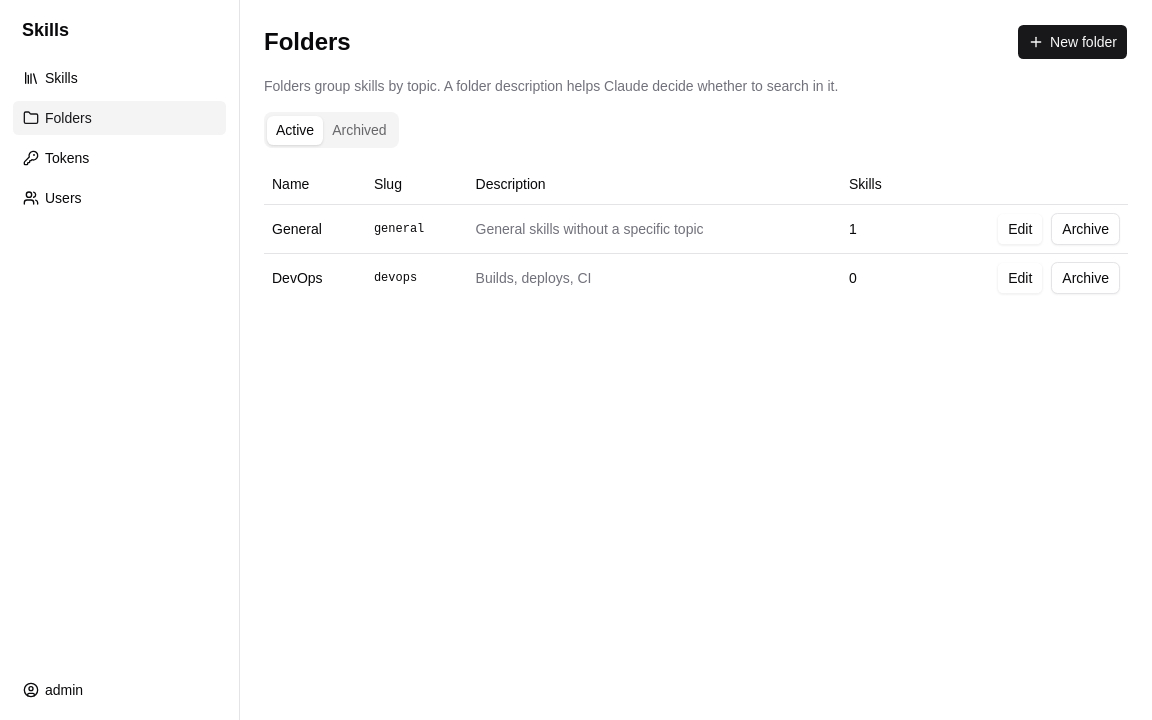
FoldersPage › archives a folder after confirmation and shows a toast
Click the button "Archive" in the row of "General skills without a specific topic" at (1086, 228), box [1051, 212, 1120, 244]
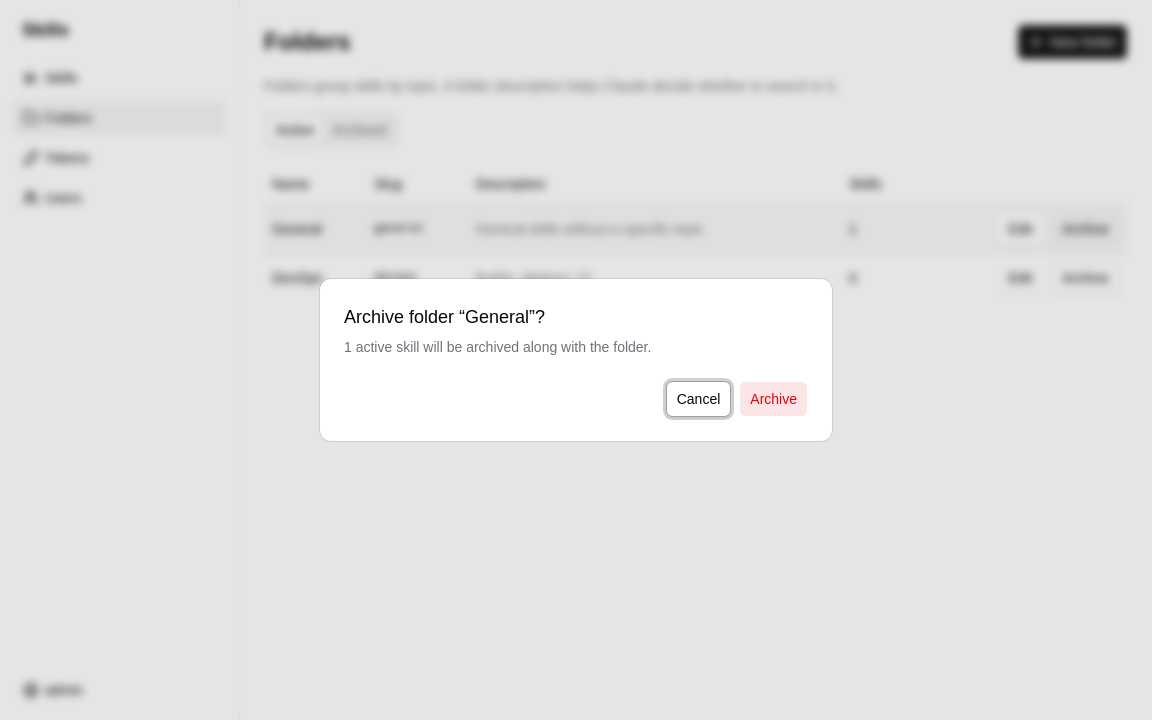
Check: the heading "Archive folder “General”?" is shown, box [344, 303, 545, 331]
Check: the dialog shows "1 active skill will be archived", box [344, 339, 651, 355]
Click the button "Archive" at (774, 399), box [739, 381, 808, 417]
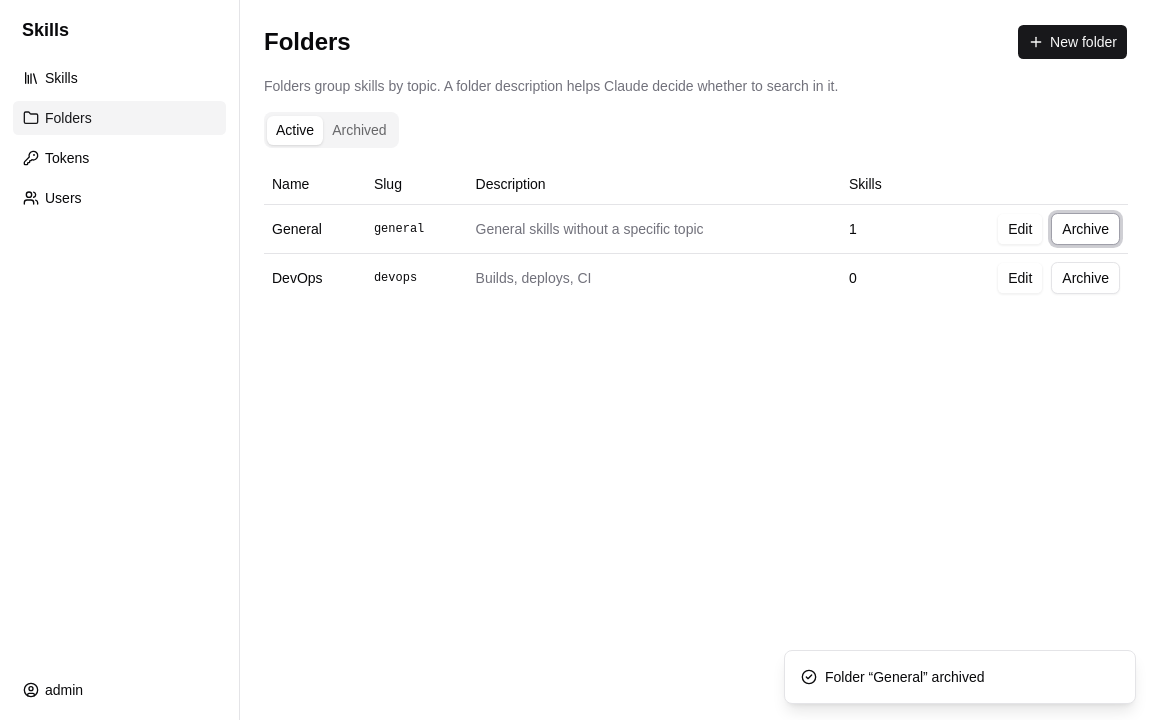
Check: the heading "Folder “General” archived" is shown, box [825, 667, 984, 687]
